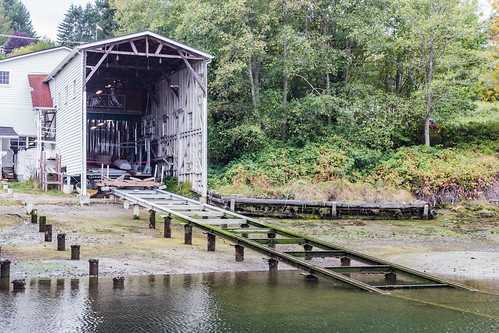building: (1, 48, 207, 189)
river: (10, 272, 499, 333)
vegetation: (229, 1, 499, 175)
